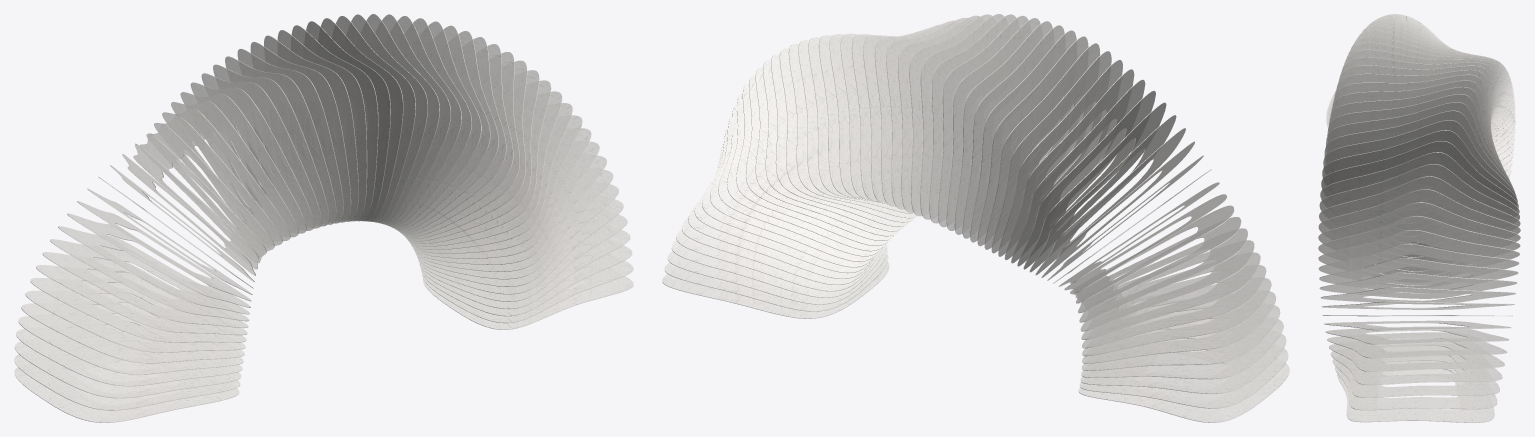
File: screen008.glb
3 renders of one model, left to right at view 1: azimuth 30°, elevation 25°; view 2: azimuth 150°, elevation 25°; view 3: azimuth 270°, elevation 25°, orthographic. The views are drawn at different scales.
Parts seen in each view (by area): view 1: [0]; view 2: [0]; view 3: [0].
Part boxes in pixels (box(x1,y1,x2,y2)): [0]: box(14, 14, 633, 422); [0]: box(662, 14, 1289, 422); [0]: box(1318, 14, 1520, 422).
Size of the model in its own units: 12.5 by 6.18 by 4.42.
Materials: 1 (1 with a texture image).
